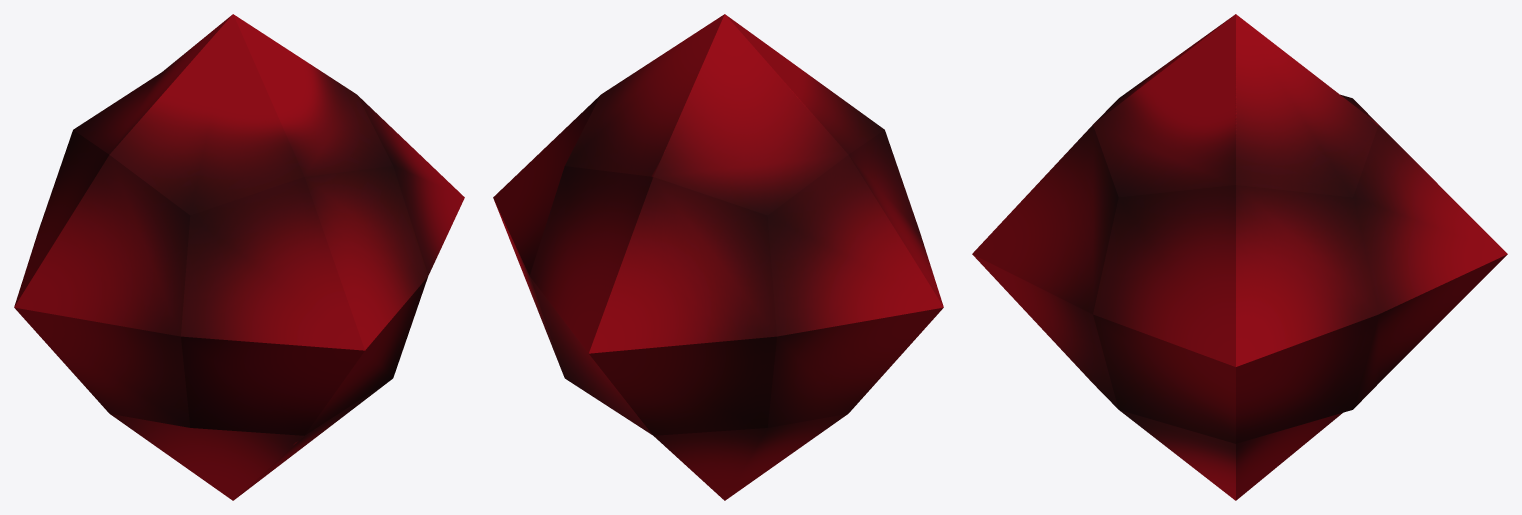
The model's file is enemybullet.obj.
3 views of the same model, side by side, from view 1: azimuth 30°, elevation 25°; view 2: azimuth 150°, elevation 25°; view 3: azimuth 270°, elevation 25° (orthographic).
Visible parts, largest first — view 1: Cube; view 2: Cube; view 3: Cube.
Boxes of the visible parts, box(x1,y1,x2,y2) form: Cube: box(14, 14, 464, 500); Cube: box(493, 14, 943, 500); Cube: box(972, 14, 1507, 500).
Size of the model in its own units: 2.22 by 2.29 by 2.29.
Materials: 1 (1 with a texture image).
